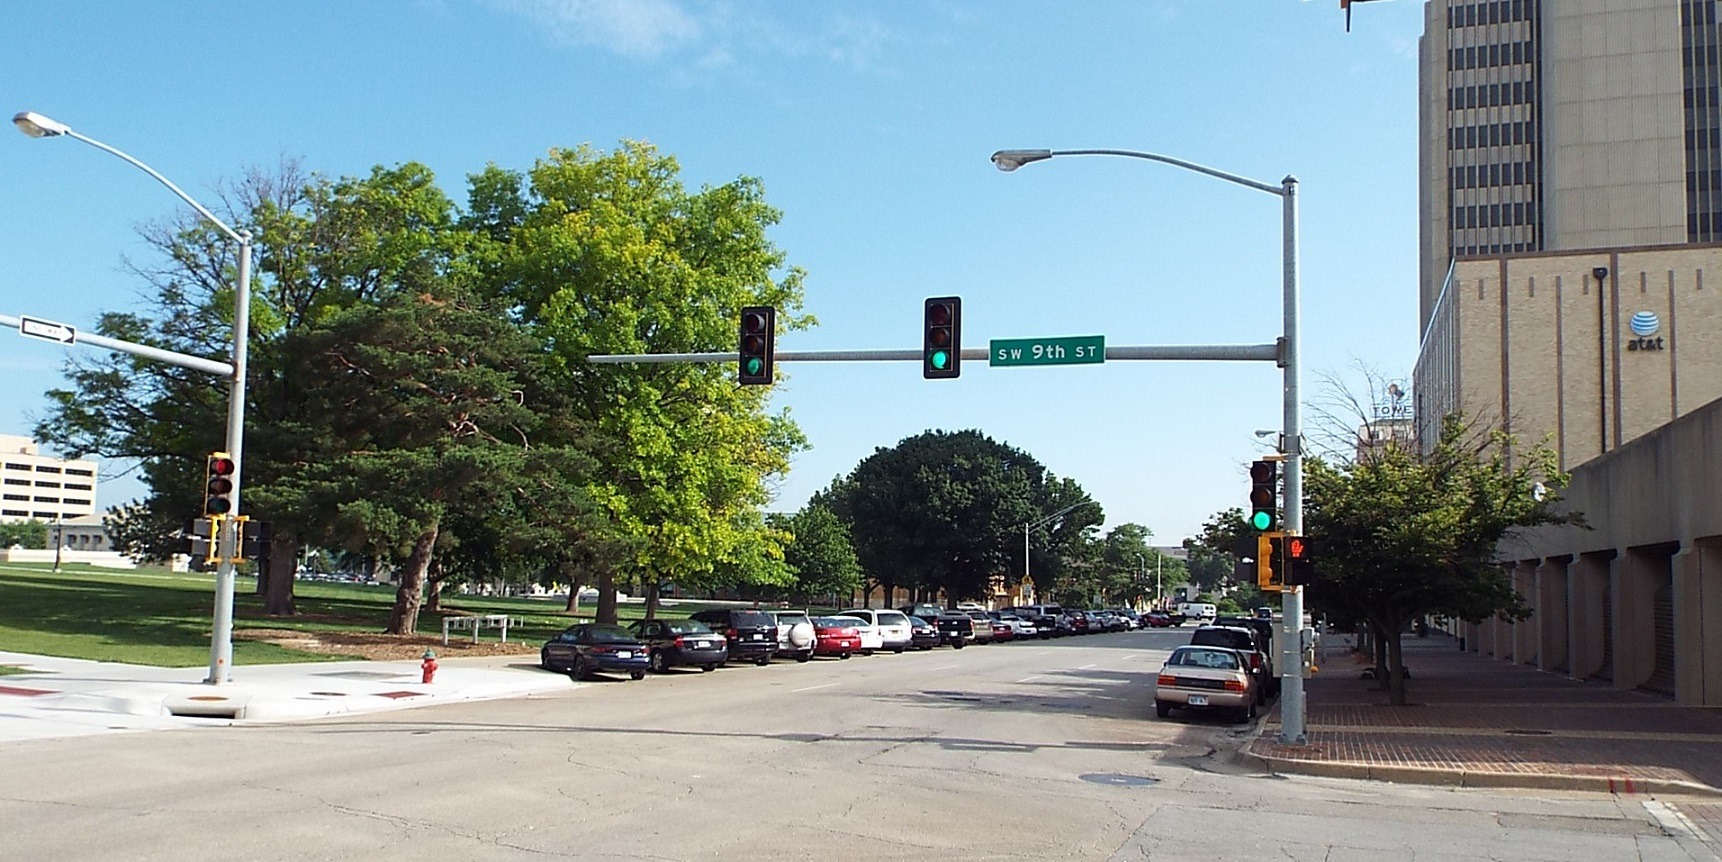traffic_light: (921, 294, 962, 382), (737, 305, 777, 386), (1248, 458, 1279, 534)
